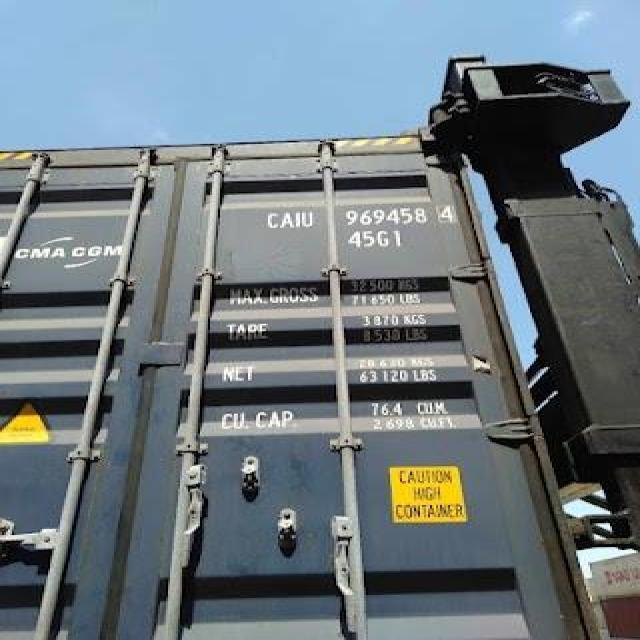ISO: (348, 230, 402, 250)
container_number: (265, 202, 450, 228)
